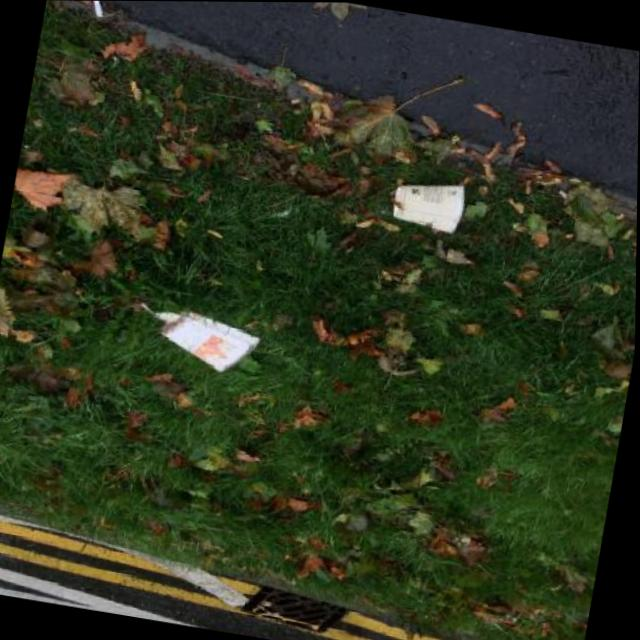cardboard: (152, 306, 264, 378), (390, 174, 469, 236)
